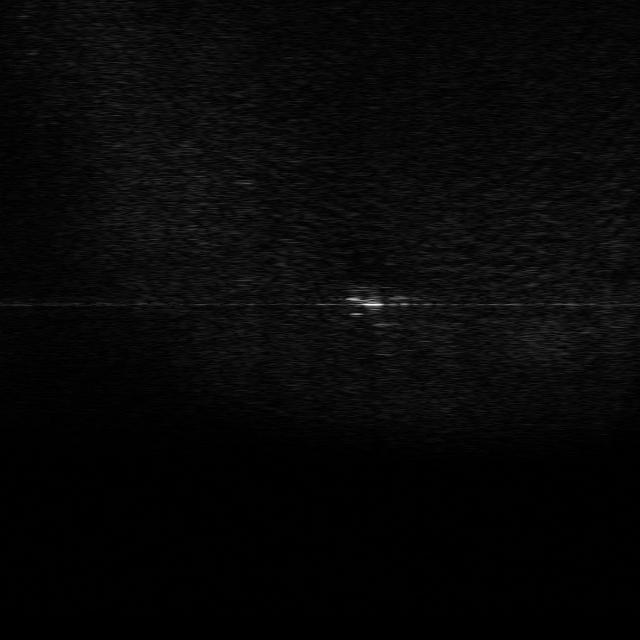plane: (342, 282, 428, 314)
